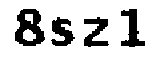1: (115, 6, 151, 53)
8: (10, 5, 46, 49)
s: (49, 14, 77, 52)
z: (79, 16, 109, 48)
